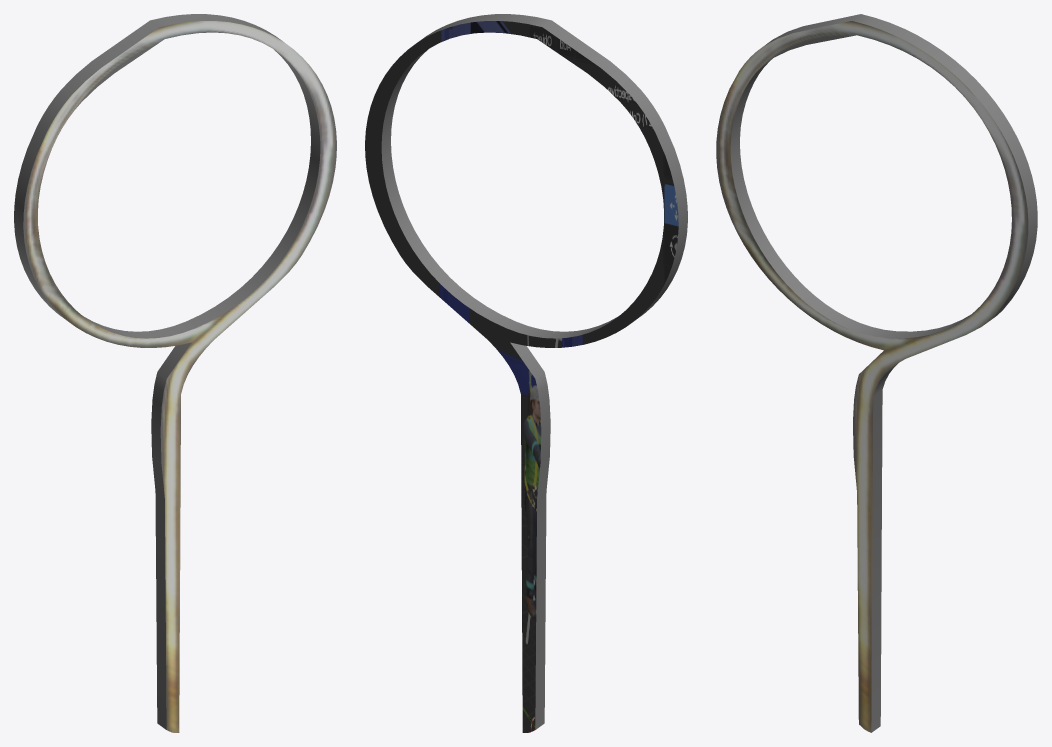
Rendered from seguro_extintor_b.fbx.
3 views of the same model, side by side, from view 1: azimuth 30°, elevation 25°; view 2: azimuth 150°, elevation 25°; view 3: azimuth 330°, elevation 25° (orthographic).
Visible parts, largest first — view 1: Layer 1; view 2: Layer 1; view 3: Layer 1.
Part boxes in pixels (box(x1,y1,x2,y2)): Layer 1: box(14, 14, 336, 732); Layer 1: box(365, 14, 687, 732); Layer 1: box(716, 14, 1037, 732).
Bounding box in the file's own units: 96.49 × 209 × 5.
